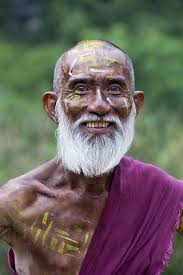person: (41, 39, 145, 178)
